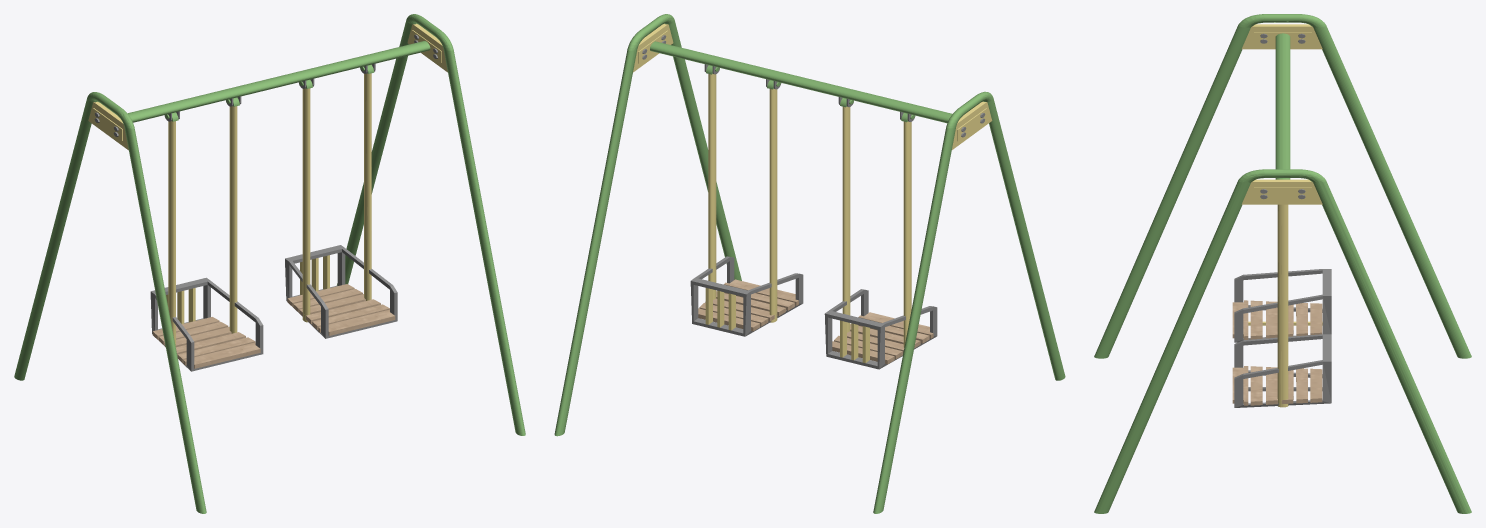
File: sh-bs0-child-swing.glb
The picture shows the model from 3 angles, left to right: view 1: azimuth 30°, elevation 25°; view 2: azimuth 150°, elevation 25°; view 3: azimuth 270°, elevation 25°; orthographic projection.
Visible parts, largest first — view 1: ChildSwing, Chair; view 2: ChildSwing, Chair; view 3: ChildSwing, Chair.
Boxes of the visible parts, box(x1,y1,x2,y2) form: ChildSwing: box(14, 14, 525, 513); Chair: box(152, 284, 395, 368); ChildSwing: box(554, 14, 1065, 513); Chair: box(698, 279, 933, 364); ChildSwing: box(1094, 14, 1471, 513); Chair: box(1232, 300, 1322, 405).
Bounding box in the file's own units: 1 × 1 × 1.
4 materials, 1 textured.
